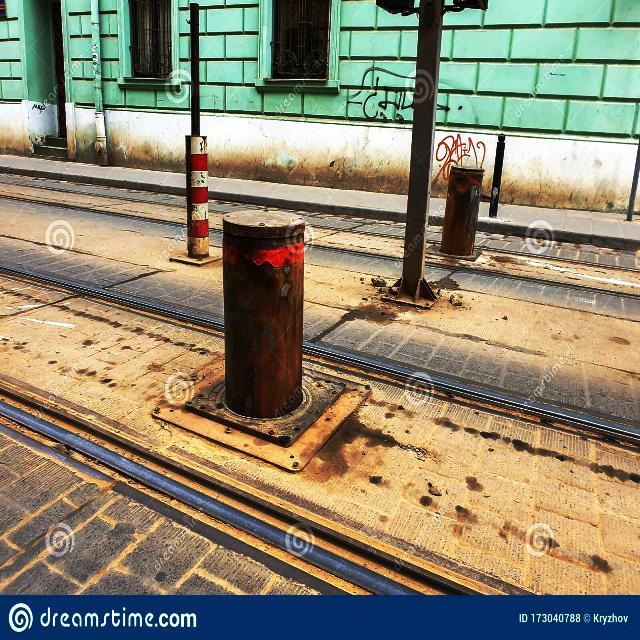Pitting Corrosion: (434, 419, 639, 482), (79, 313, 210, 357), (415, 491, 476, 525), (590, 555, 615, 572), (366, 475, 388, 488), (72, 366, 92, 375)
Uniform Corrosion: (184, 210, 346, 447), (315, 410, 395, 459)
